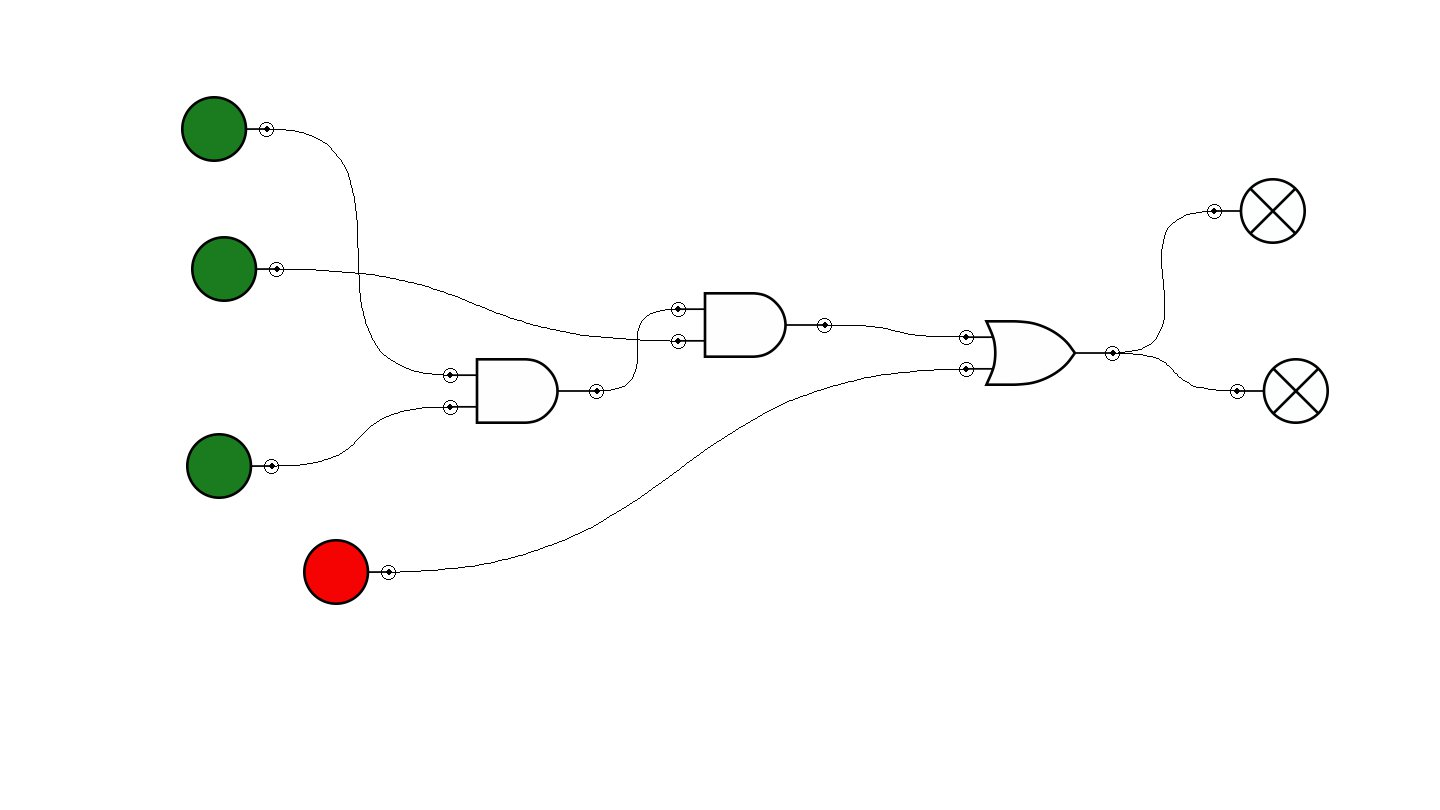and: (443, 358, 604, 424), (671, 292, 832, 358)
bulb: (1230, 358, 1329, 424), (1207, 178, 1306, 244)
or: (959, 320, 1120, 386)
switch_False: (303, 539, 396, 605)
switch_True: (181, 96, 274, 162), (191, 236, 284, 302), (186, 433, 279, 499)
